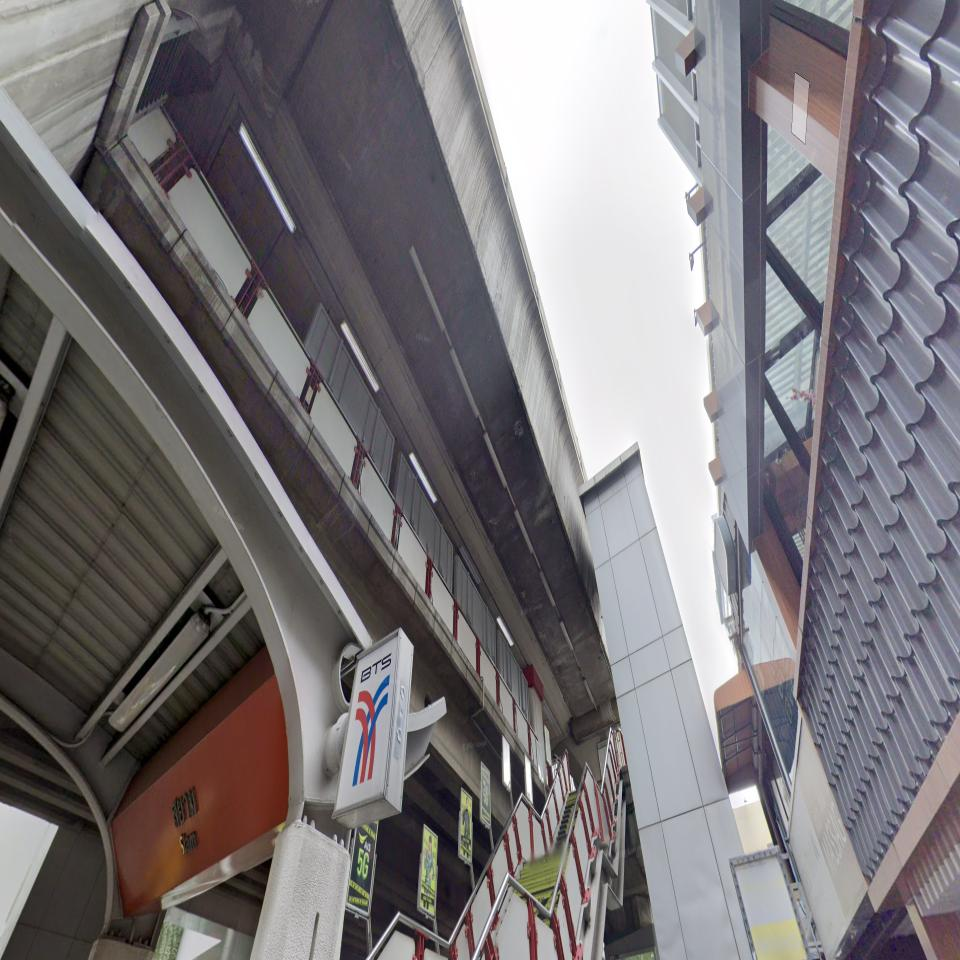Siam: (110, 626, 401, 918), (109, 676, 289, 918)
